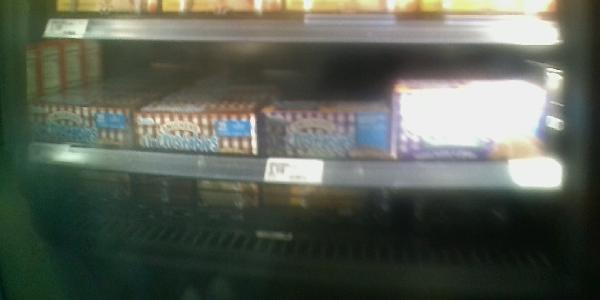icecream: (261, 105, 389, 215), (134, 106, 256, 203), (28, 101, 134, 200)
